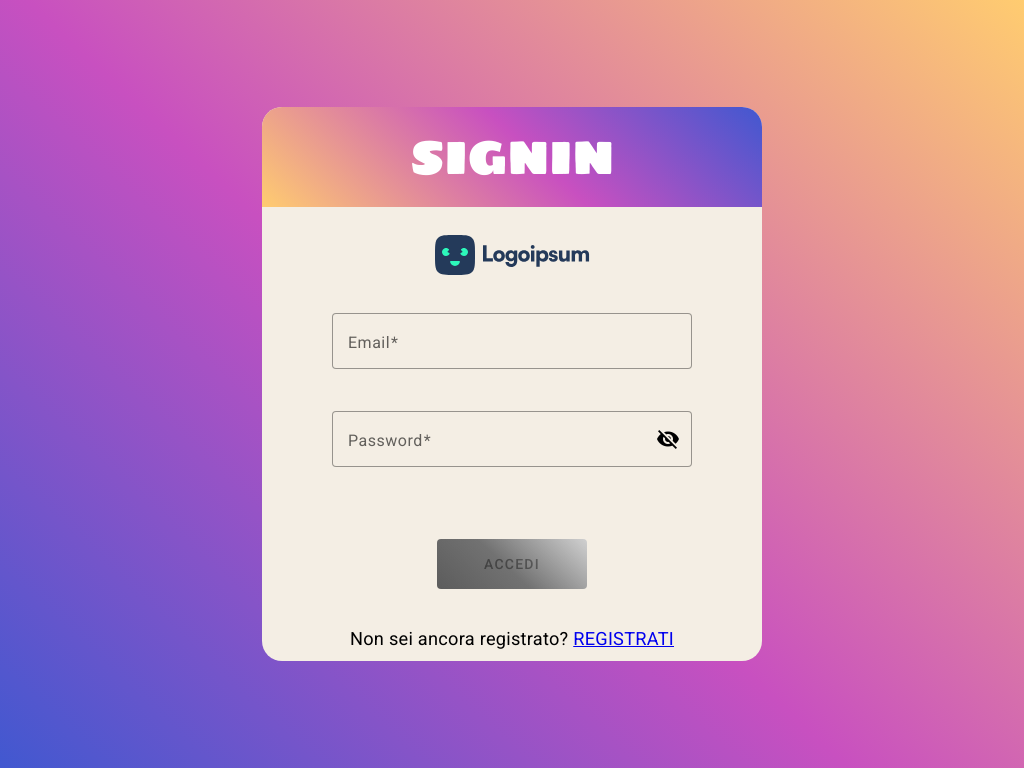
it: The Login Page › Login form › should display an error message and disabled submit button when clock-captcha is not available
The image size is (1024, 768).
In the field with test id "email": (512, 341) x1=348 y1=329 x2=676 y2=353, type "mario.rossi@gmmail.com"
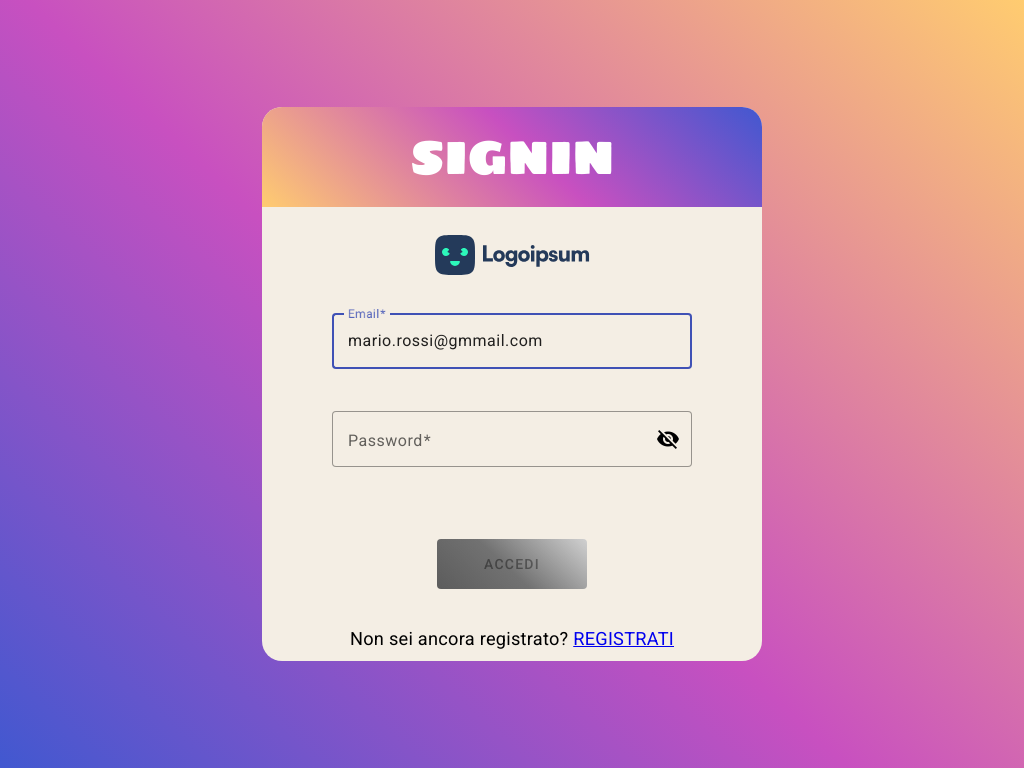
In the password field with test id "psw": (494, 439) x1=348 y1=427 x2=640 y2=451, type "Password1234"
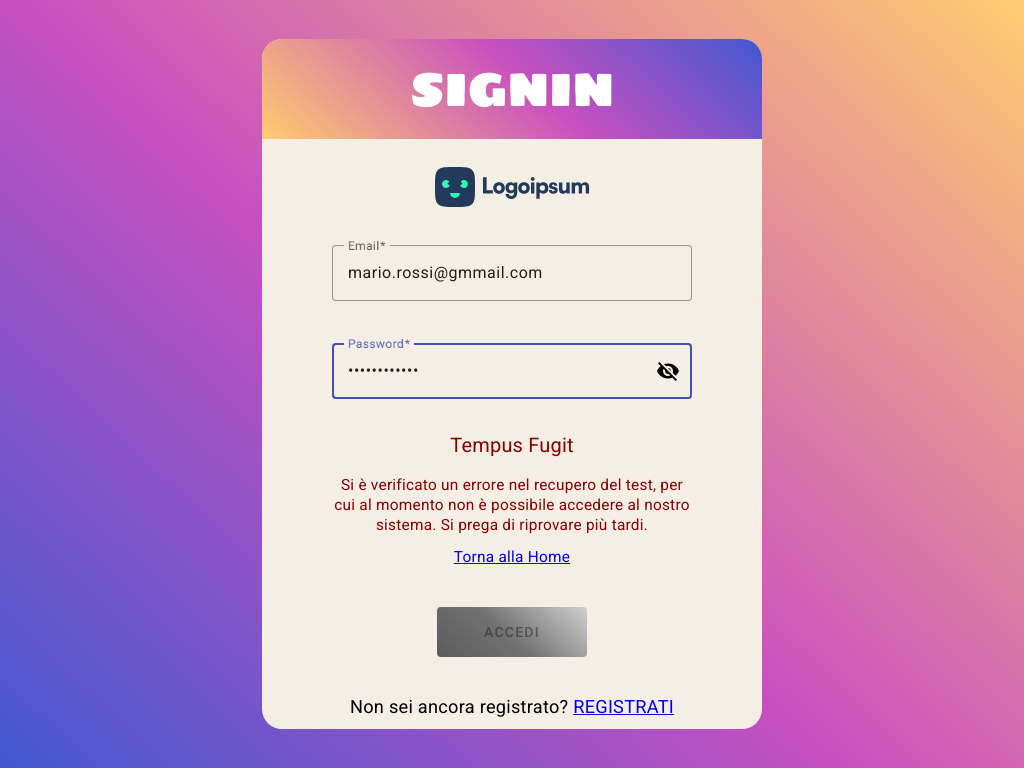
Check: the button with test id "submit" is disabled, box x1=437 y1=607 x2=587 y2=657
Check: the element with class "error" is shown, box x1=332 y1=431 x2=692 y2=567
